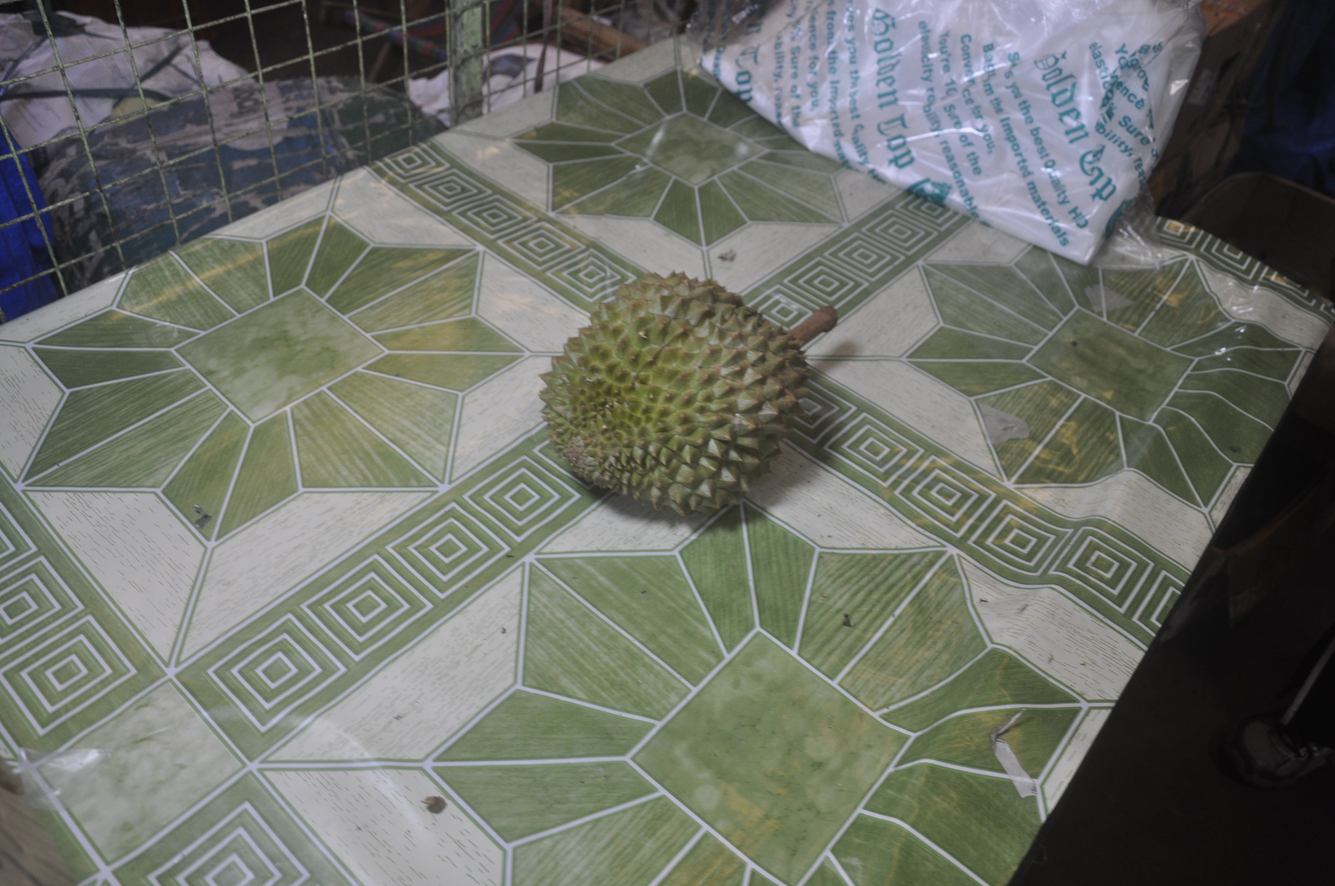mature: (540, 273, 809, 516)
